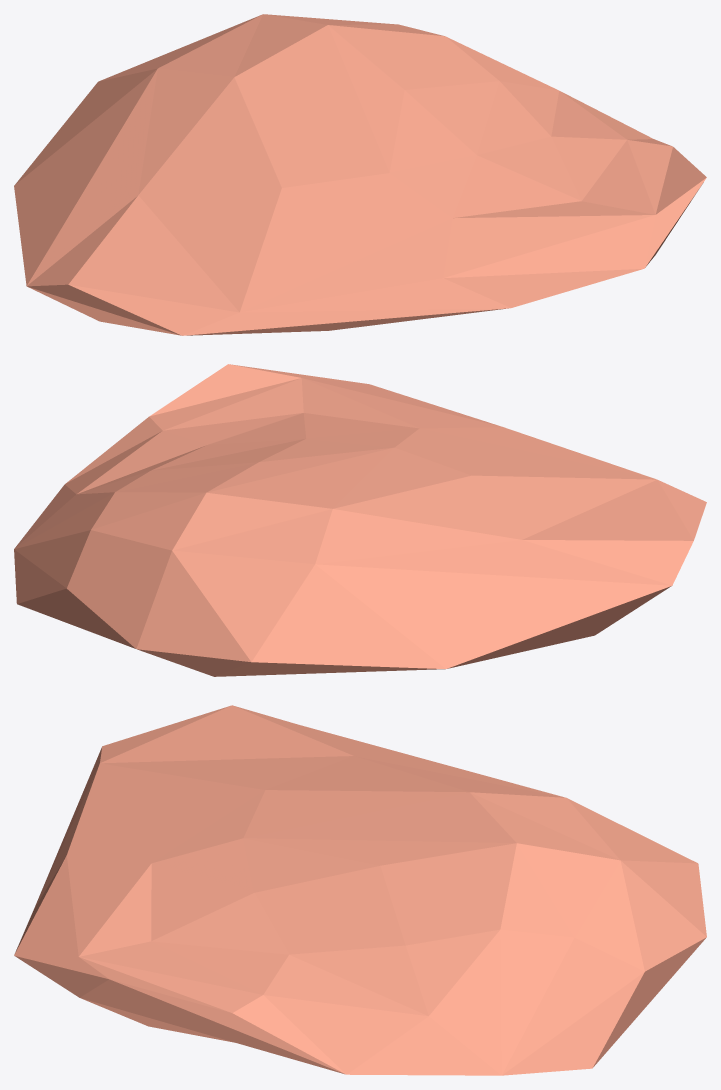
File: Coral_platform_010.glb
The picture shows the model from 3 angles, top to bottom: view 1: azimuth 30°, elevation 25°; view 2: azimuth 150°, elevation 25°; view 3: azimuth 270°, elevation 25°; orthographic projection. The views are drawn at different scales.
Parts seen in each view (by area): view 1: Coral_platform_010; view 2: Coral_platform_010; view 3: Coral_platform_010.
Boxes of the visible parts, x1=… form: Coral_platform_010: x1=14, y1=14, x2=706, y2=335; Coral_platform_010: x1=14, y1=364, x2=706, y2=676; Coral_platform_010: x1=14, y1=705, x2=706, y2=1075.
Bounding box in the file's own units: 1.95 × 0.4936 × 1.78.
Materials: 1 (1 with a texture image).
